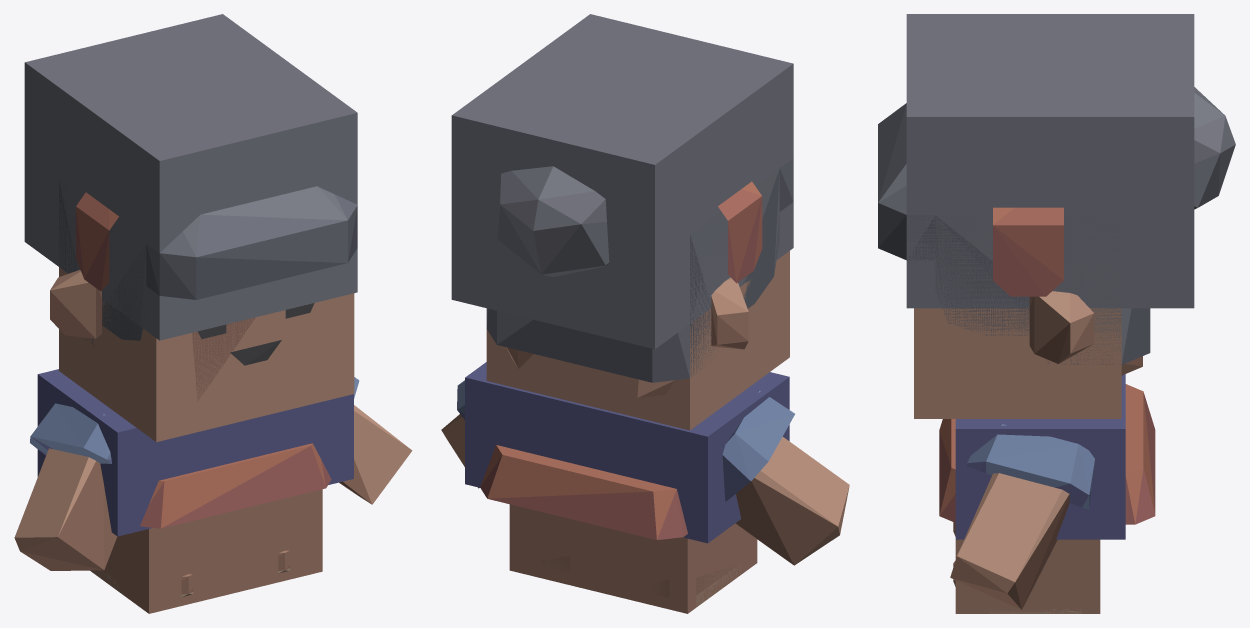
The model's file is person.female-c.glb.
3 views of the same model, side by side, from view 1: azimuth 30°, elevation 25°; view 2: azimuth 150°, elevation 25°; view 3: azimuth 270°, elevation 25° (orthographic). The views are drawn at different scales.
Parts seen in each view (by area): view 1: far, near; view 2: far, near; view 3: far, near.
Part boxes in pixels (box(x1,y1,x2,y2)): far: box(24, 14, 357, 613); near: box(14, 180, 412, 597); far: box(451, 14, 793, 613); near: box(441, 158, 849, 607); far: box(906, 14, 1194, 613); near: box(878, 87, 1235, 613).
Bounding box in the file's own units: 1.46 × 1.7 × 1.1.
